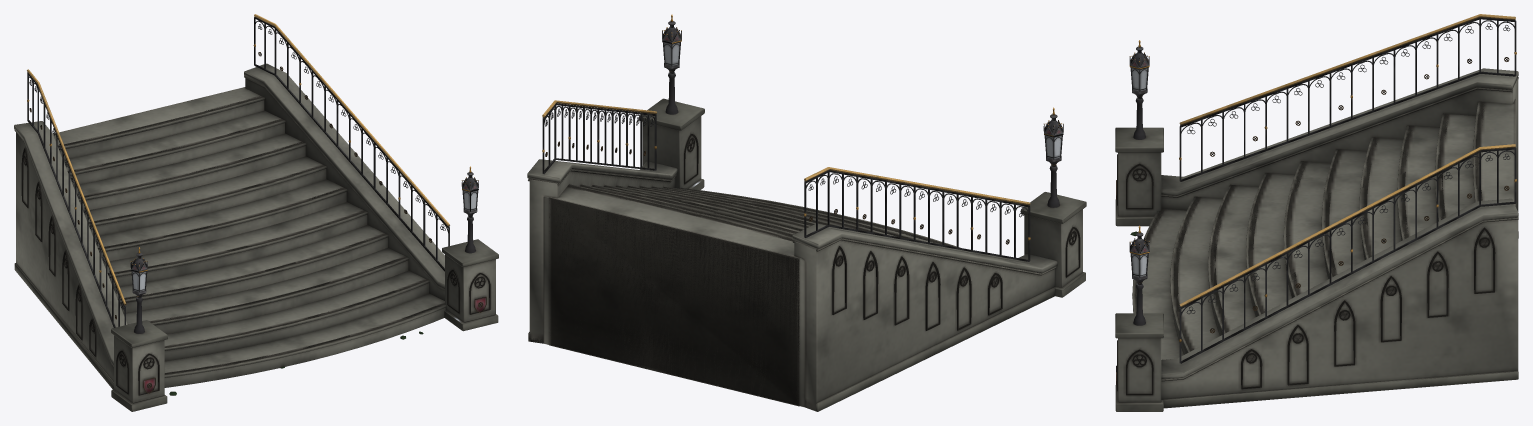
Rendered from EntranceFlightBowed.fbx.
The picture shows the model from 3 angles, left to right: view 1: azimuth 30°, elevation 25°; view 2: azimuth 150°, elevation 25°; view 3: azimuth 270°, elevation 25°; orthographic projection. The views are drawn at different scales.
Visible parts, largest first — view 1: EntranceFlightBowed_Main, EntranceFlightBowed_Newels, EntranceFlightBowed_Rail, EntranceFlightBowed_Glass; view 2: EntranceFlightBowed_Main, EntranceFlightBowed_Newels, EntranceFlightBowed_Rail, EntranceFlightBowed_Glass; view 3: EntranceFlightBowed_Main, EntranceFlightBowed_Rail, EntranceFlightBowed_Newels, EntranceFlightBowed_Glass.
Part boxes in pixels (box(x1,y1,x2,y2)): EntranceFlightBowed_Main: box(14, 63, 446, 395); EntranceFlightBowed_Newels: box(111, 166, 498, 411); EntranceFlightBowed_Rail: box(27, 14, 449, 327); EntranceFlightBowed_Glass: box(132, 191, 477, 291); EntranceFlightBowed_Main: box(527, 159, 1057, 411); EntranceFlightBowed_Newels: box(639, 14, 1086, 297); EntranceFlightBowed_Rail: box(542, 100, 1030, 261); EntranceFlightBowed_Glass: box(664, 42, 1061, 158); EntranceFlightBowed_Main: box(1130, 68, 1518, 408); EntranceFlightBowed_Rail: box(1179, 14, 1516, 363); EntranceFlightBowed_Newels: box(1115, 40, 1163, 411); EntranceFlightBowed_Glass: box(1132, 68, 1147, 276).
Size of the model in its own units: 1800 by 933 by 1487.
